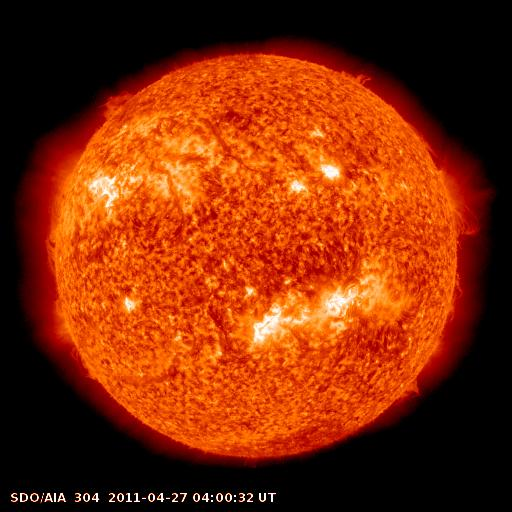prominence: (38, 152, 86, 277), (384, 373, 434, 416), (442, 268, 476, 331), (334, 60, 386, 96), (94, 82, 139, 123)
